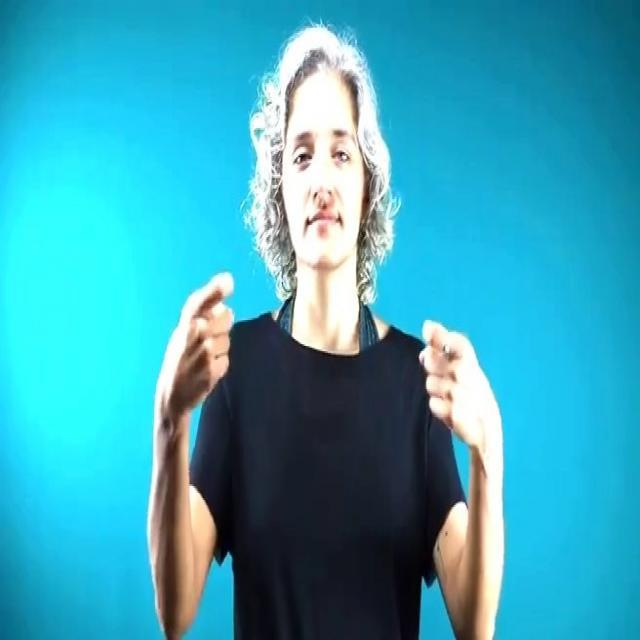allergy: (152, 268, 506, 479)
